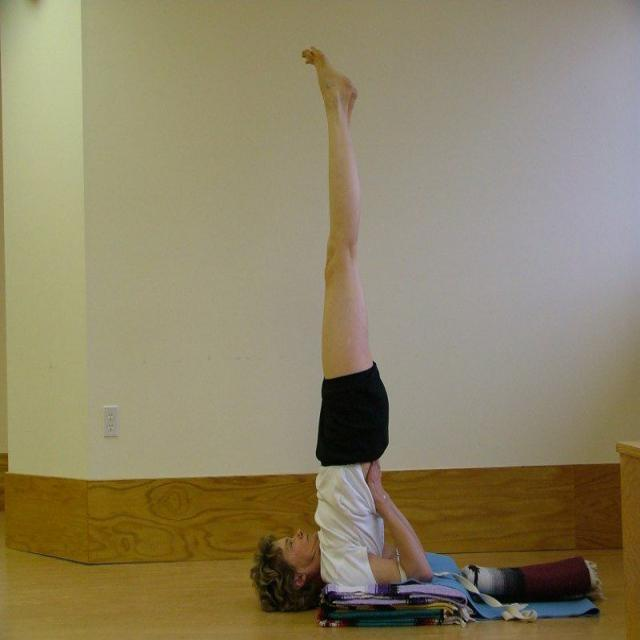yoga-pose shoulderstand: (252, 38, 430, 608)
